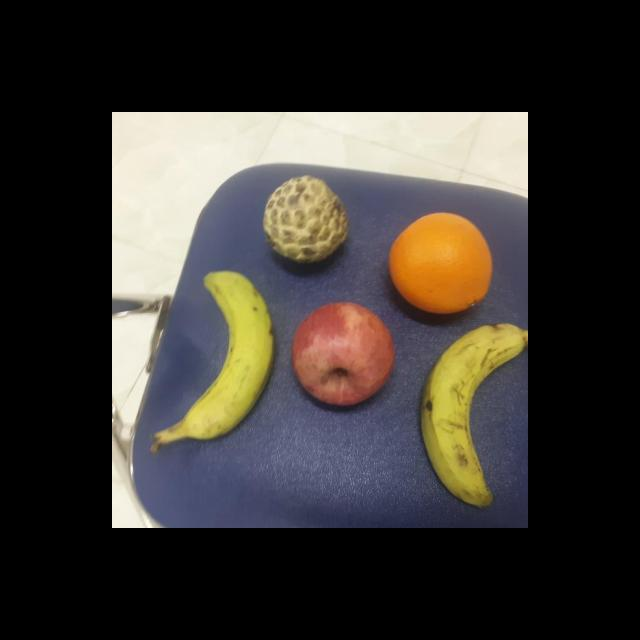Sakya fruit: (259, 173, 350, 267)
apple: (288, 300, 397, 410)
banana: (418, 321, 520, 508), (178, 266, 278, 442)
orange: (388, 211, 496, 317)
